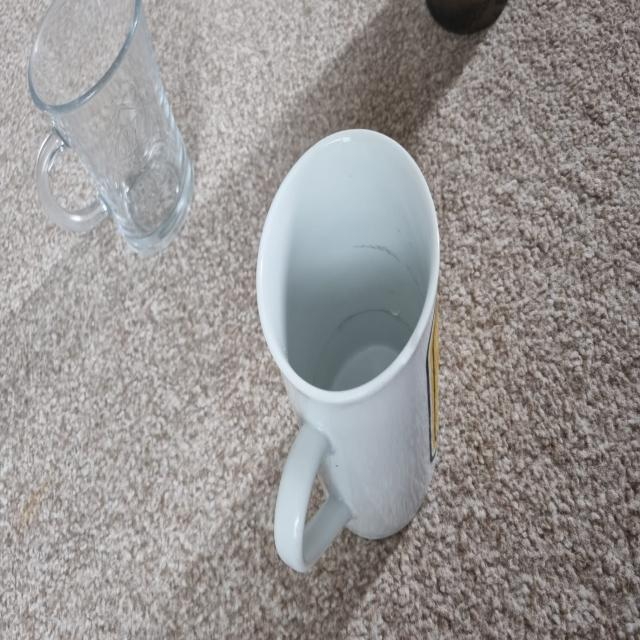Cup: (257, 130, 439, 572), (28, 0, 194, 255)
